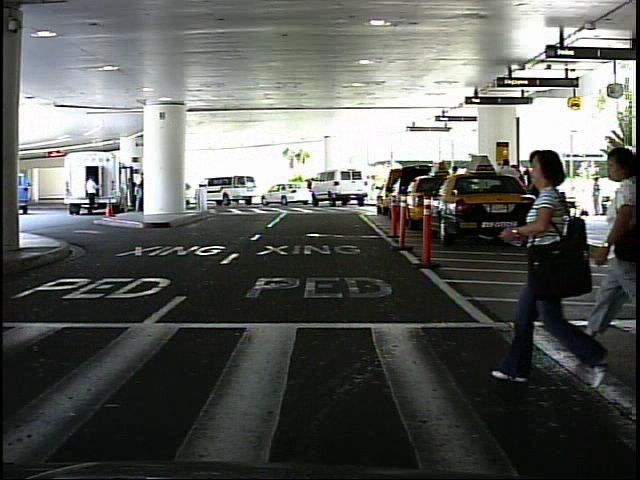person: (508, 138, 596, 396), (588, 172, 607, 218), (85, 172, 103, 218), (365, 171, 379, 205)
